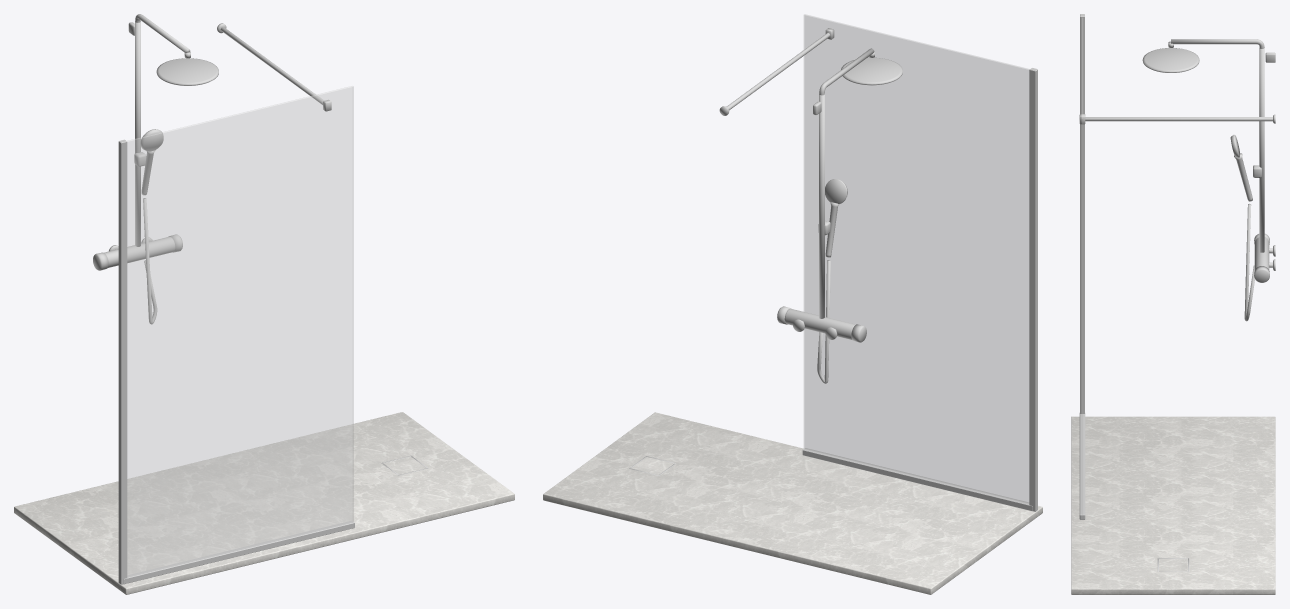
The model's file is ducha_walk_in_90x180.glb.
3 views of the same model, side by side, from view 1: azimuth 30°, elevation 25°; view 2: azimuth 150°, elevation 25°; view 3: azimuth 270°, elevation 25° (orthographic). The views are drawn at different scales.
Visible parts, largest first — view 1: ducha_walk_in_90x180; view 2: ducha_walk_in_90x180; view 3: ducha_walk_in_90x180.
Boxes of the visible parts, x1,y1,x2,y2 form: ducha_walk_in_90x180: (14,14,514,594); ducha_walk_in_90x180: (543,14,1042,594); ducha_walk_in_90x180: (1071,14,1275,594).
Bounding box in the file's own units: 1.8 × 2.11 × 0.9005.
3 materials, 1 textured.
